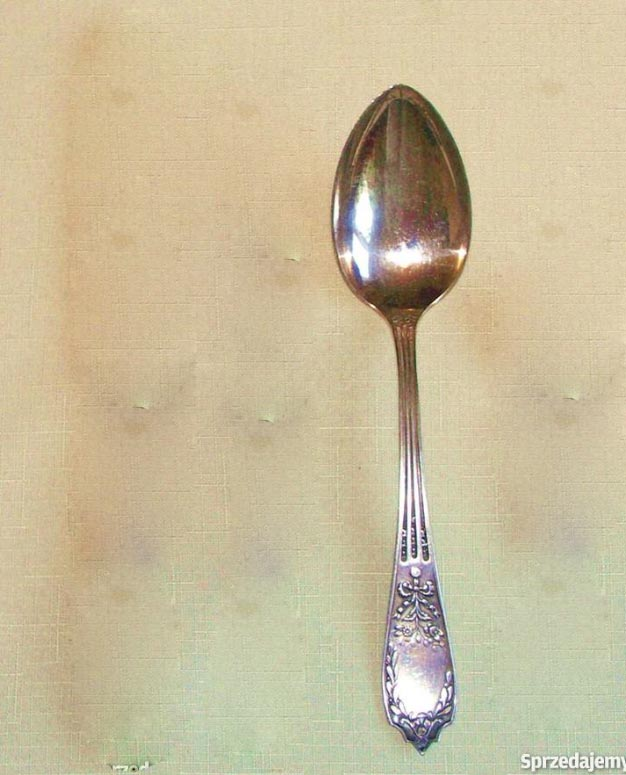Lyzka: (326, 82, 475, 316)
